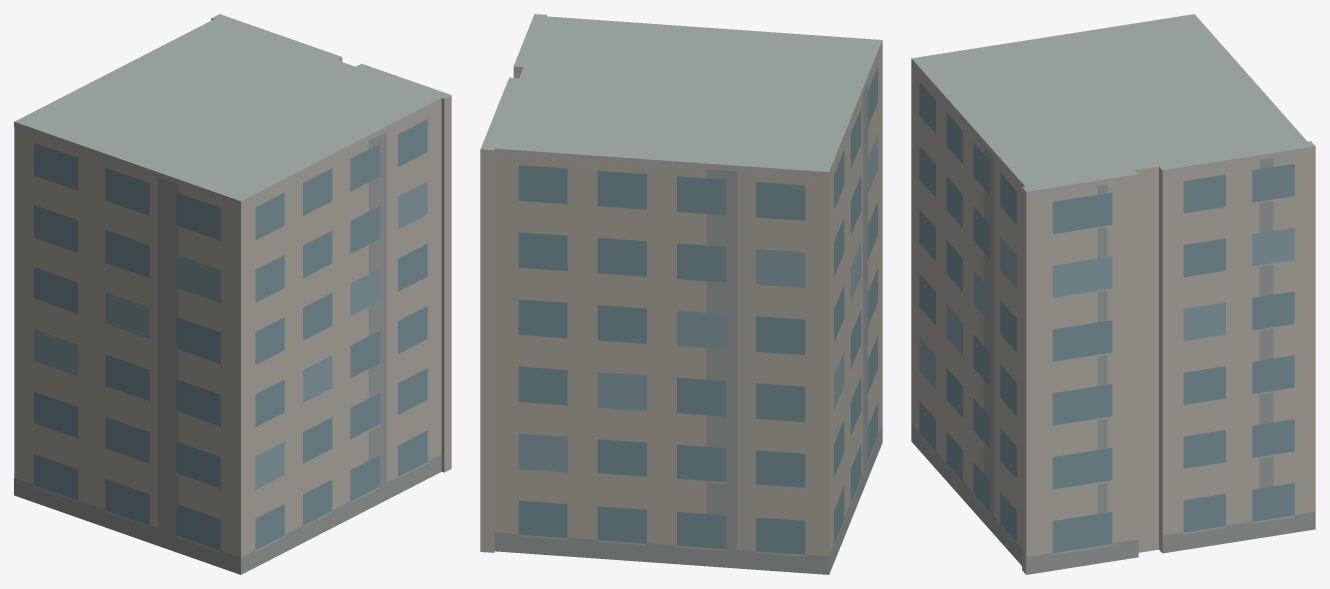
File: survey-upis-32835997.glb
3 renders of one model, left to right at view 1: azimuth 30°, elevation 25°; view 2: azimuth 150°, elevation 25°; view 3: azimuth 270°, elevation 25°, orthographic. The views are drawn at different scales.
Visible parts, largest first — view 1: survey-upis-32835997.tmp; view 2: survey-upis-32835997.tmp; view 3: survey-upis-32835997.tmp.
Boxes of the visible parts, x1,y1,x2,y2 form: survey-upis-32835997.tmp: [14, 14, 451, 574]; survey-upis-32835997.tmp: [480, 14, 882, 574]; survey-upis-32835997.tmp: [911, 14, 1315, 574].
Bounding box in the file's own units: 17.43 × 17.5 × 16.74.
